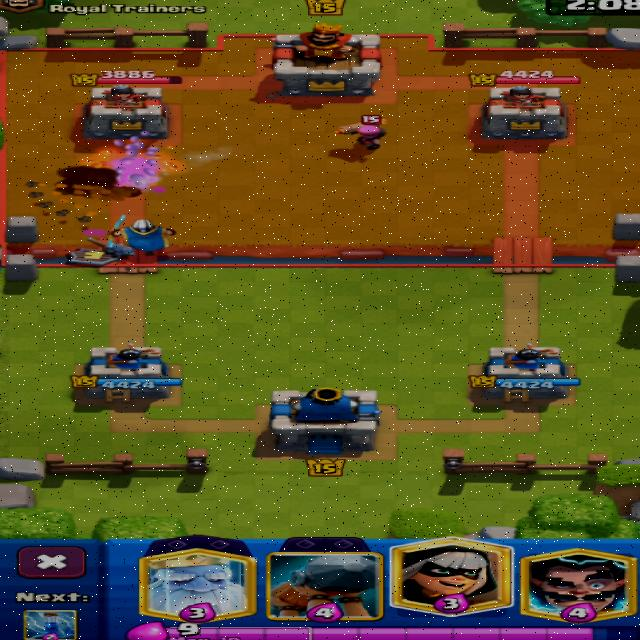Enemy-Firecracker: (337, 119, 384, 150)
Enemy-KingTower: (273, 24, 380, 97)
Enemy-PrincessTower: (481, 85, 566, 139), (83, 86, 167, 139)
Player-KingTower: (269, 388, 380, 454)
Player-MagicArcher: (110, 216, 175, 254)
Player-PrincessTower: (71, 345, 181, 403), (474, 343, 578, 401)
